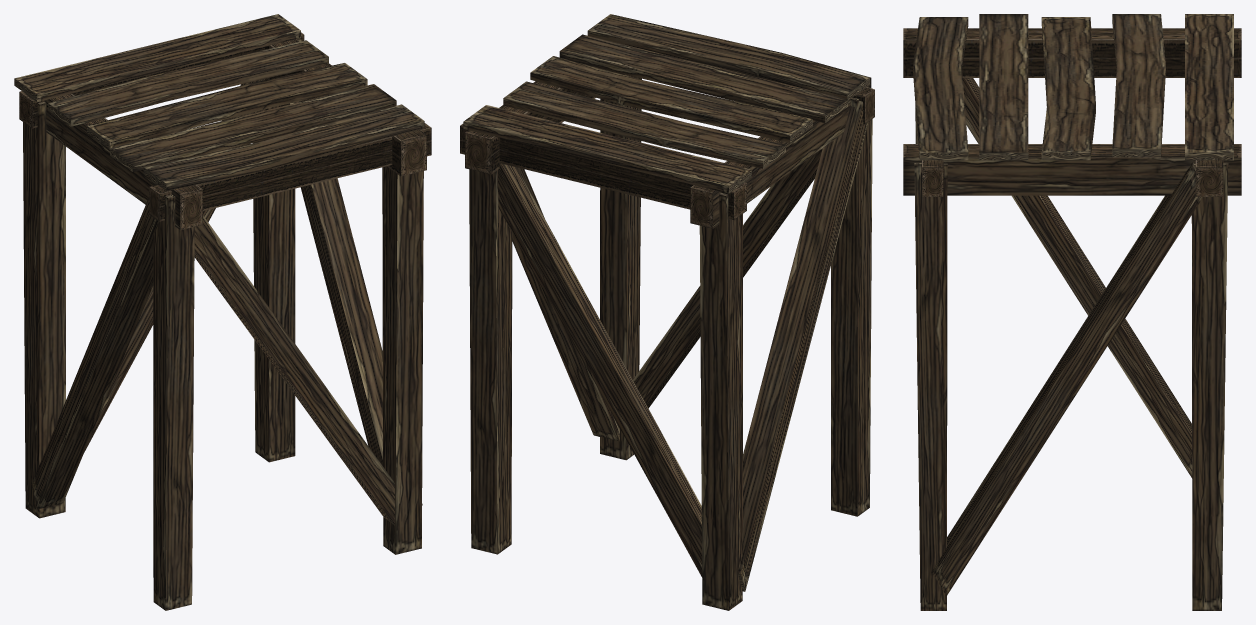
Rendered from Wood_4X6X4_02.fbx.
The picture shows the model from 3 angles, left to right: view 1: azimuth 30°, elevation 25°; view 2: azimuth 150°, elevation 25°; view 3: azimuth 270°, elevation 25°; orthographic projection. The views are drawn at different scales.
Parts seen in each view (by area): view 1: Wood_4X6X4_02; view 2: Wood_4X6X4_02; view 3: Wood_4X6X4_02.
Part boxes in pixels (x1,y1,x2,y2): Wood_4X6X4_02: [14, 14, 431, 610]; Wood_4X6X4_02: [460, 14, 874, 610]; Wood_4X6X4_02: [903, 14, 1241, 610].
Size of the model in its own units: 4 by 6 by 4.
